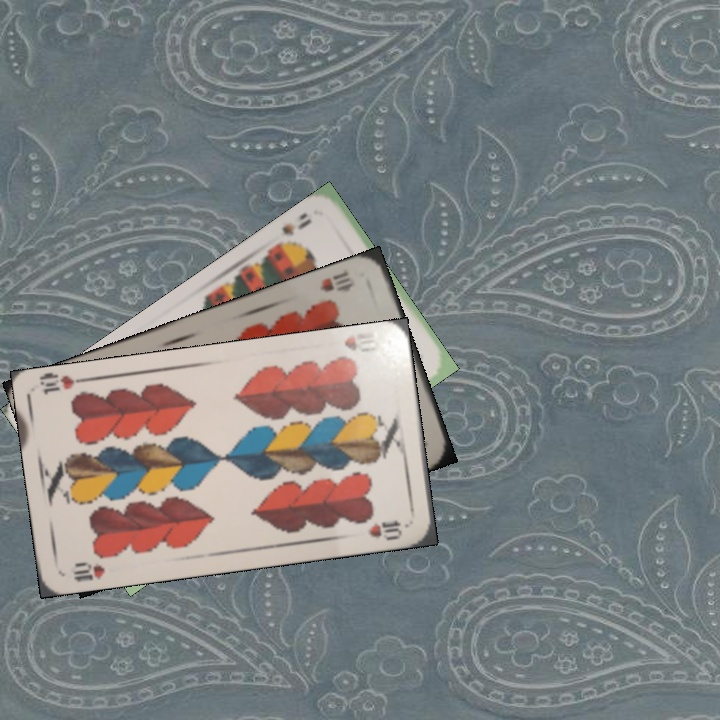H10: (316, 266, 358, 295), (340, 329, 382, 355), (69, 558, 108, 584)
S9: (271, 208, 314, 249)
